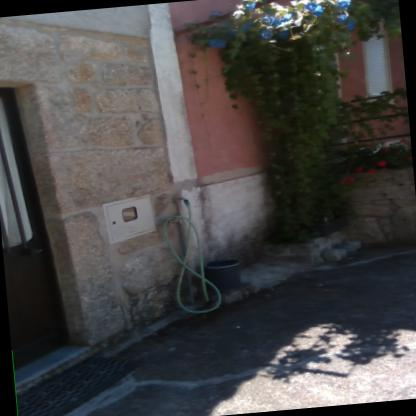closed: (0, 71, 85, 358)
